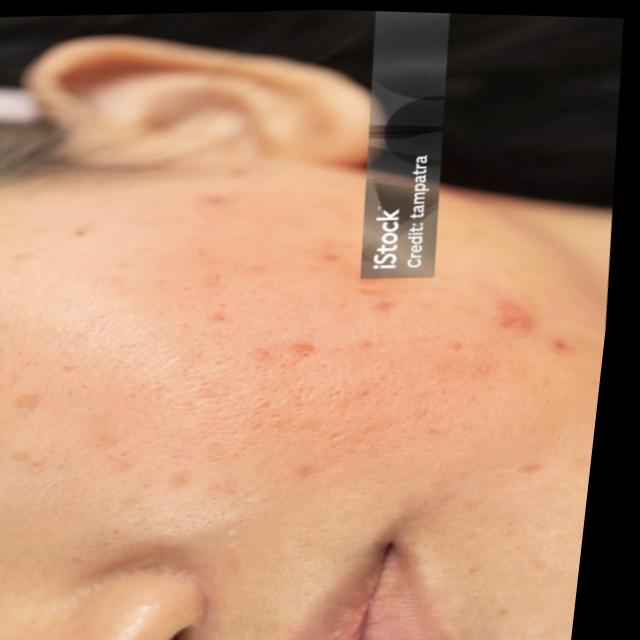papule: (5, 352, 238, 514), (188, 238, 408, 332), (245, 331, 335, 367), (477, 292, 547, 337), (189, 181, 252, 224), (535, 329, 598, 364), (279, 457, 341, 484), (508, 445, 560, 477)
